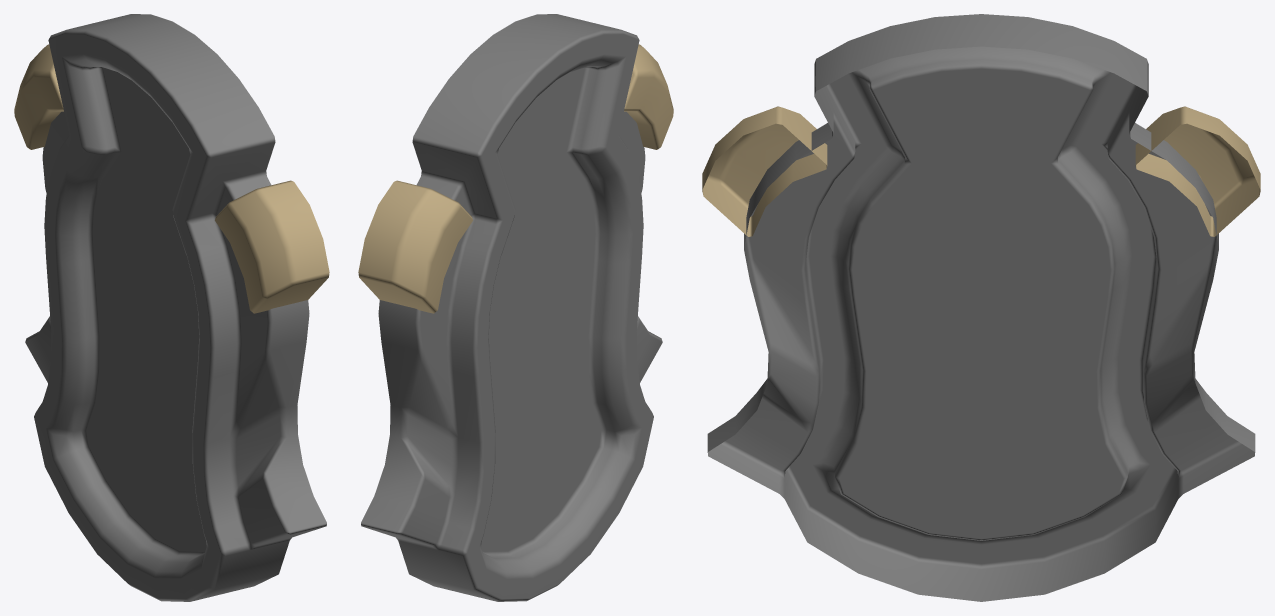
File: window (1).fbx
3 renders of one model, left to right at view 1: azimuth 30°, elevation 25°; view 2: azimuth 150°, elevation 25°; view 3: azimuth 270°, elevation 25°, orthographic. The views are drawn at different scales.
Visible parts, largest first — view 1: Cylinder001; view 2: Cylinder001; view 3: Cylinder001.
Part boxes in pixels (bbox=[...]): Cylinder001: bbox=[14, 14, 329, 601]; Cylinder001: bbox=[358, 14, 673, 601]; Cylinder001: bbox=[702, 14, 1260, 601].
Size of the model in its own units: 0.6533 by 4.93 by 4.5.
